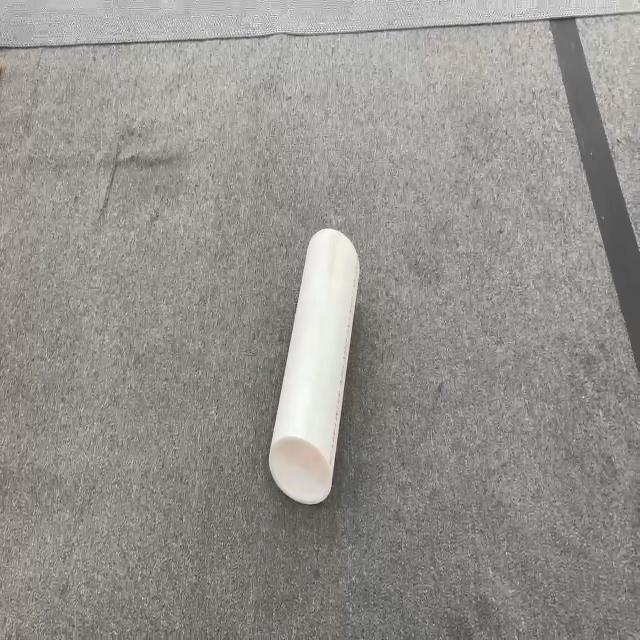coral: (268, 226, 360, 505)
